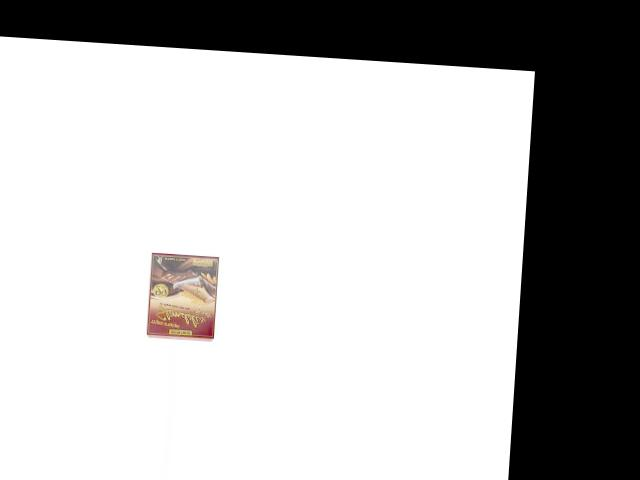chocolate: (146, 252, 218, 342)
